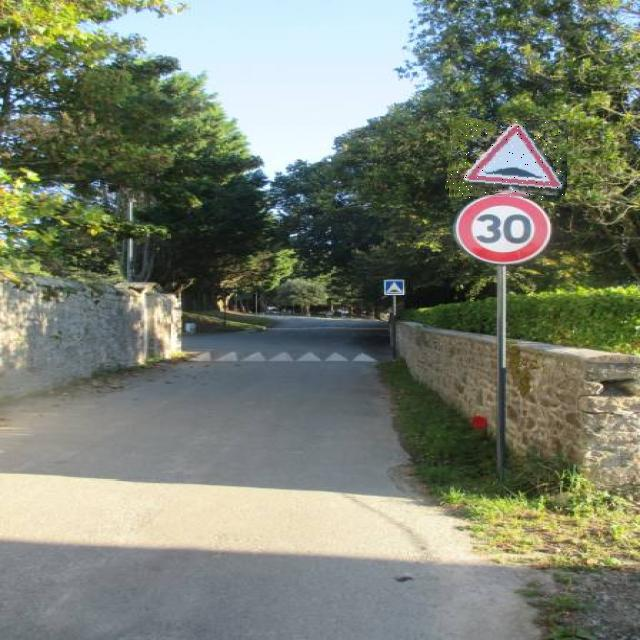hump: (447, 120, 567, 200)
